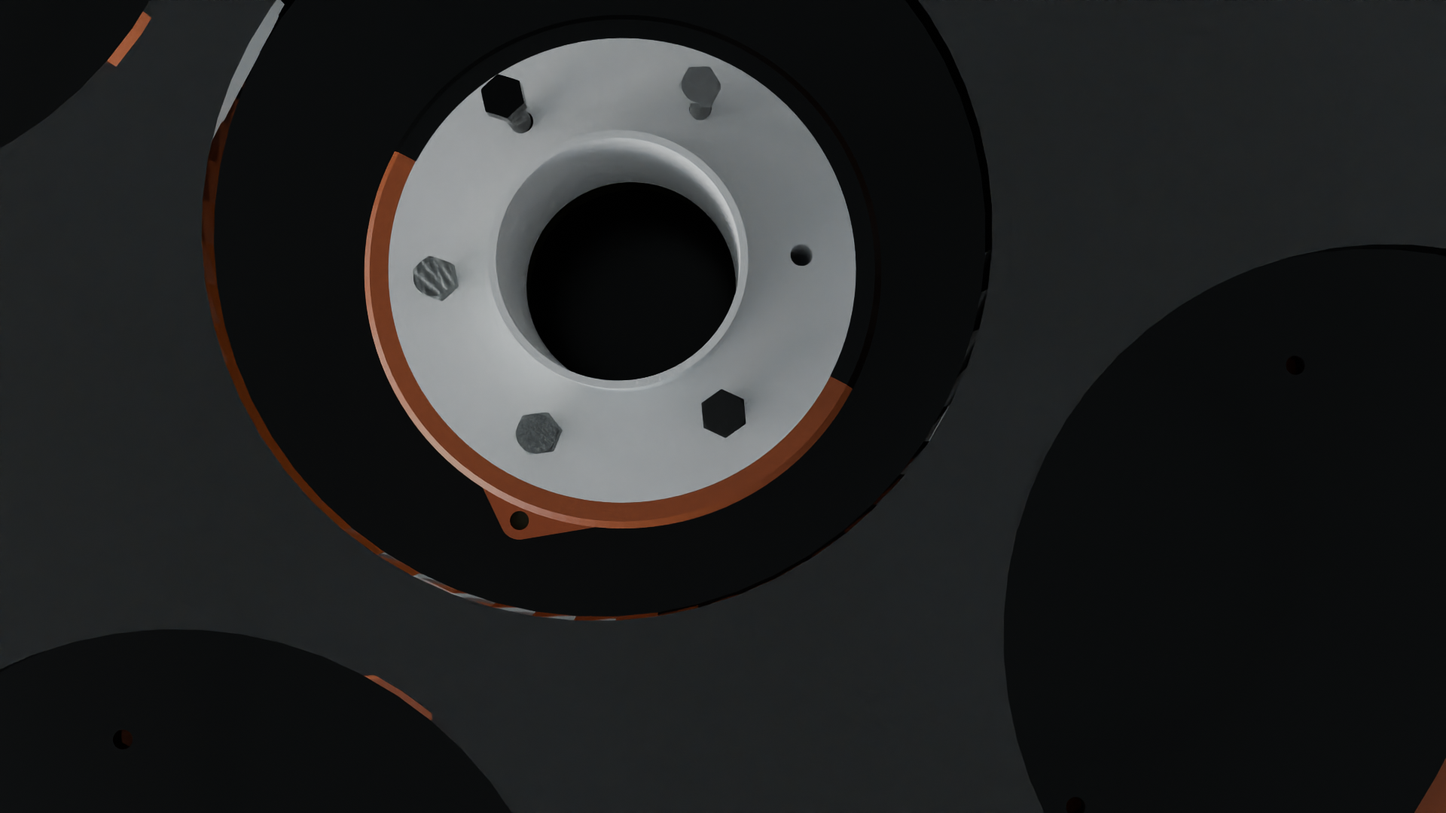bolt: (701, 389, 746, 438), (514, 412, 560, 455), (480, 75, 524, 118), (413, 256, 455, 300), (679, 66, 721, 103)
